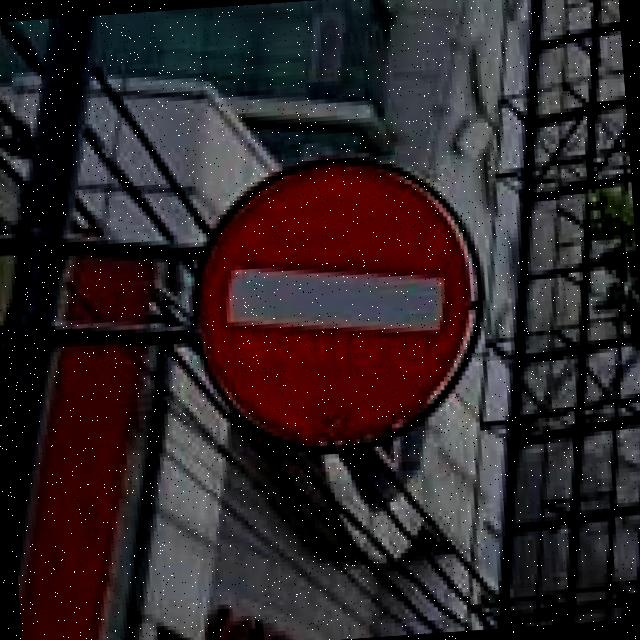Zakaz wjazdu: (190, 154, 480, 458)
